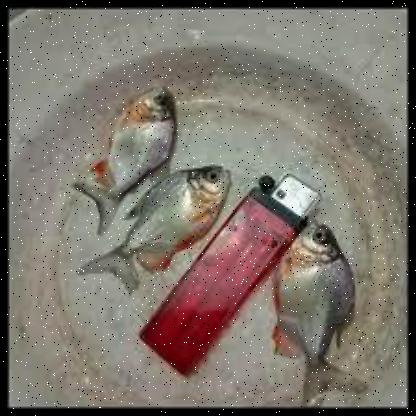ikan-pacu: (86, 159, 232, 285), (271, 224, 355, 394), (102, 85, 174, 217)
